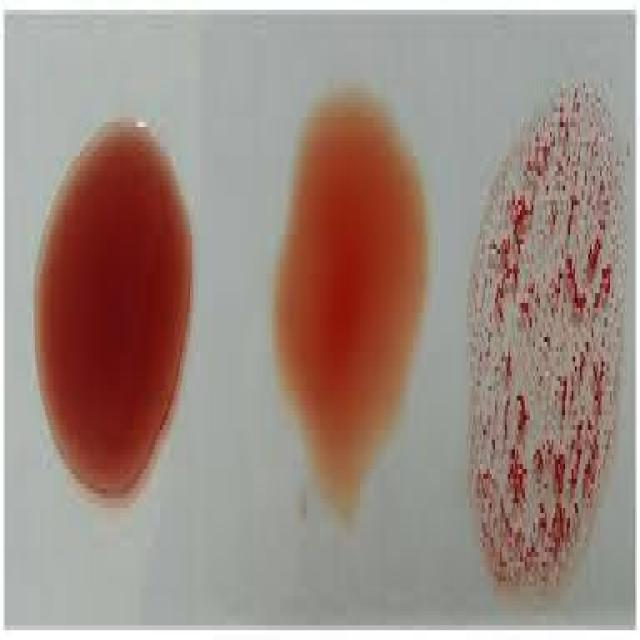D: (462, 104, 618, 602)
